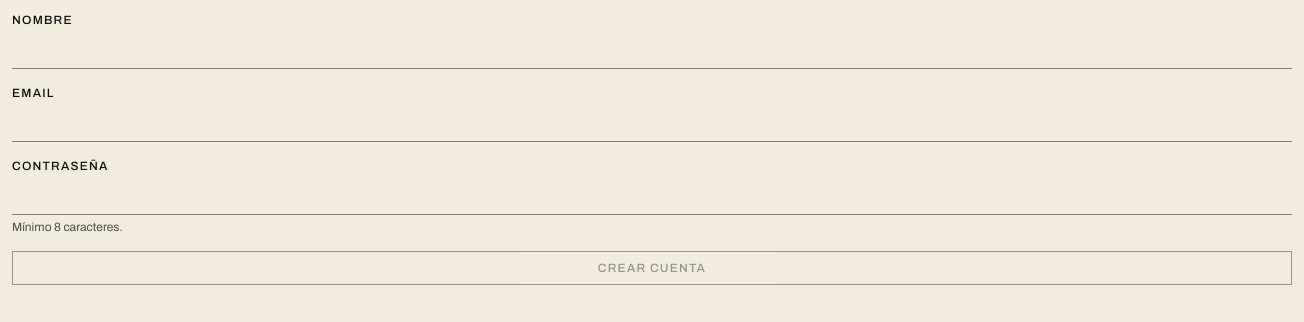
Test: RegisterForm › muestra el error de email ya registrado en el campo, sin perder lo tipeado en el resto
Type "Ana" into the field labelled "Nombre" at (652, 50), box [12, 32, 1292, 69]
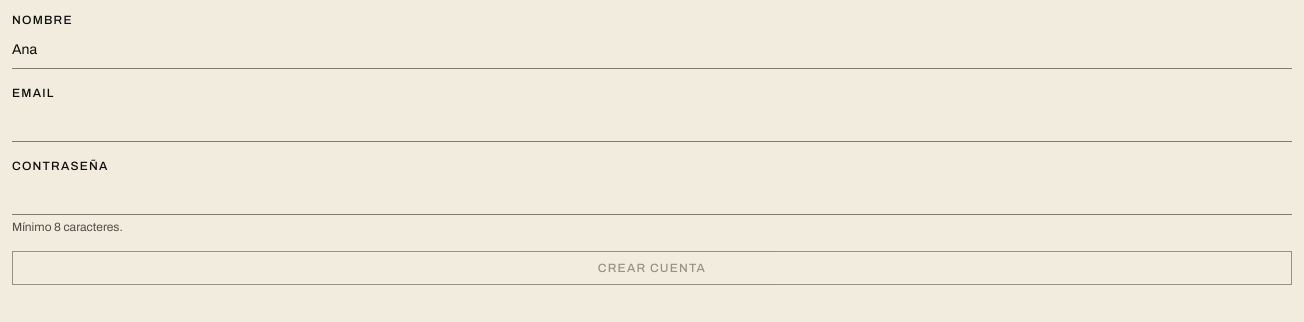
Type "ana@clack.com" into the field labelled "Email" at (652, 124), box [12, 105, 1292, 142]
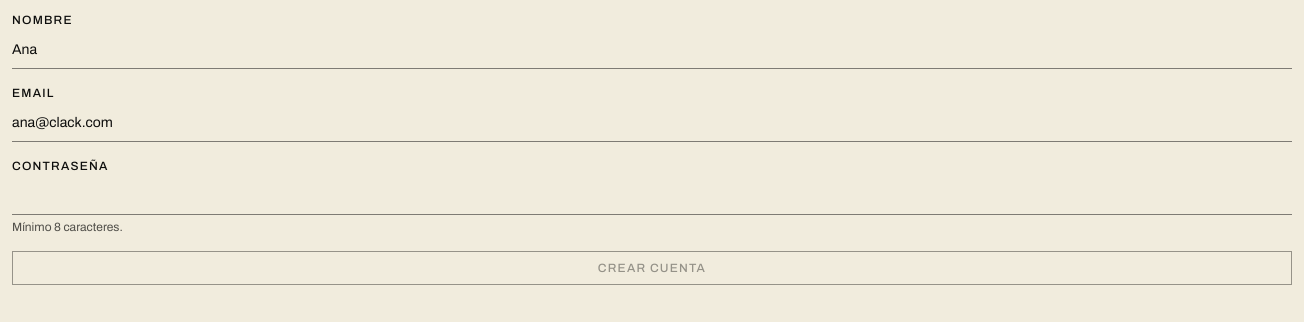
Type "12345678" into the password field labelled "Contraseña" at (652, 196), box [12, 178, 1292, 215]
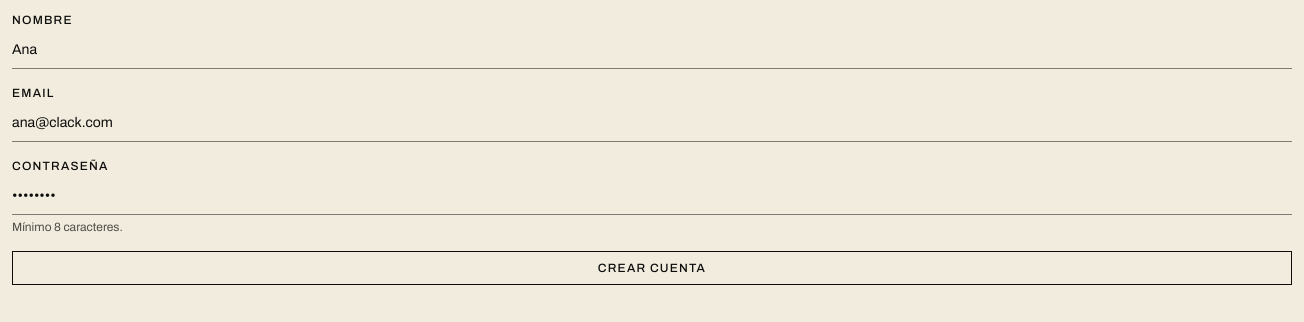
Click the button "Crear cuenta" at (652, 268), box [12, 251, 1292, 285]
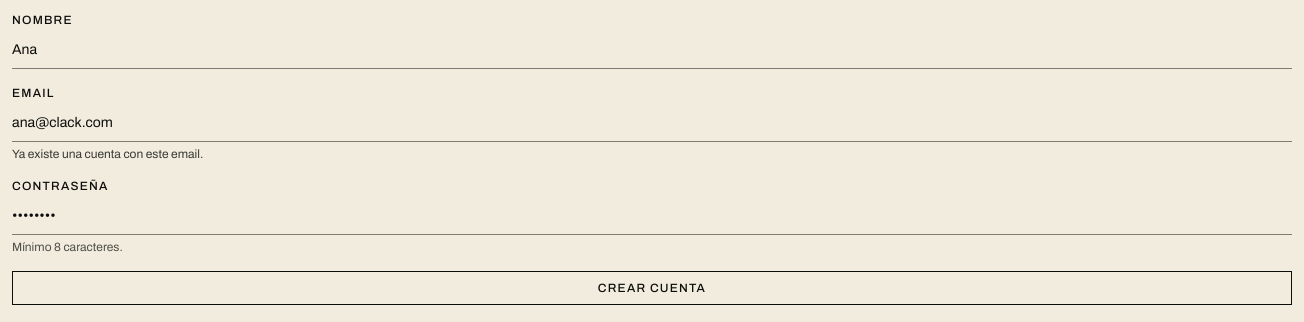
Check: the text "Ya existe una cuenta con este email." is shown, box [12, 147, 203, 161]
